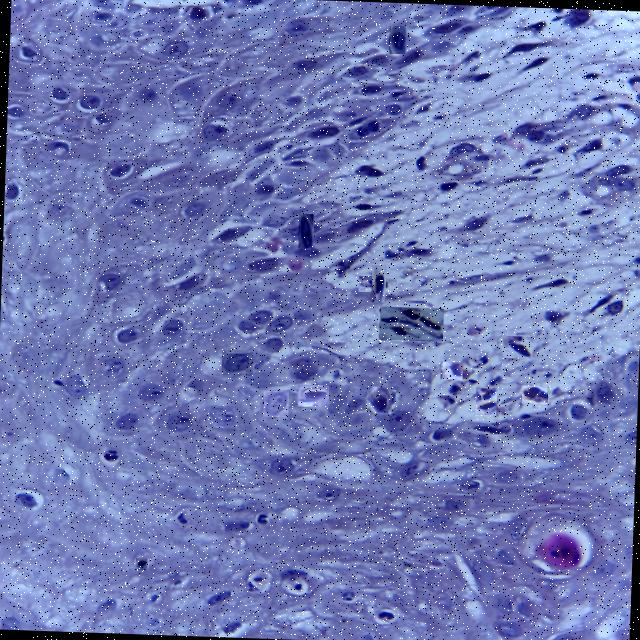Multiple Nucleol: (222, 350, 253, 375), (263, 390, 288, 416), (207, 406, 239, 426), (299, 213, 312, 247), (390, 25, 405, 53)
Nuclear Hyperchromatism: (379, 307, 443, 340), (501, 337, 532, 358), (297, 385, 328, 406), (475, 387, 497, 415), (370, 386, 390, 414), (370, 265, 385, 302), (522, 385, 547, 404), (442, 362, 462, 380), (136, 558, 147, 570)
